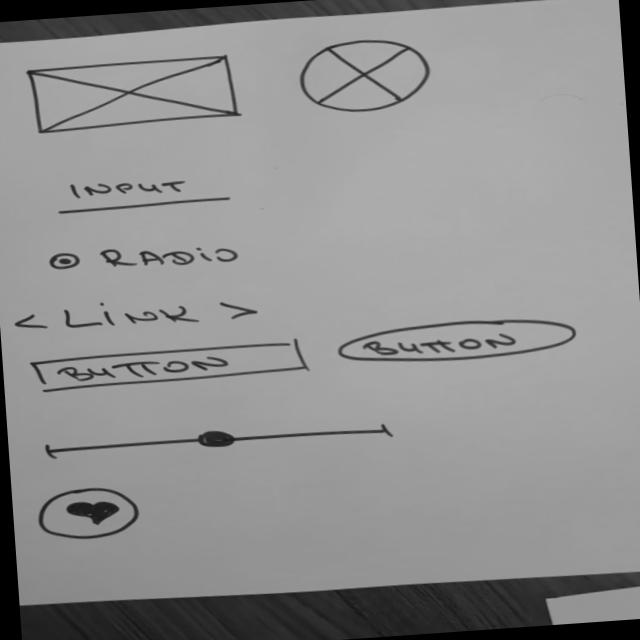button: (28, 337, 313, 396), (333, 312, 583, 372)
icon-button: (33, 482, 146, 545)
image: (23, 52, 243, 136), (294, 36, 436, 120)
input: (49, 168, 237, 218)
link: (11, 287, 261, 341)
radio: (44, 237, 244, 281)
slider: (36, 416, 400, 464)
